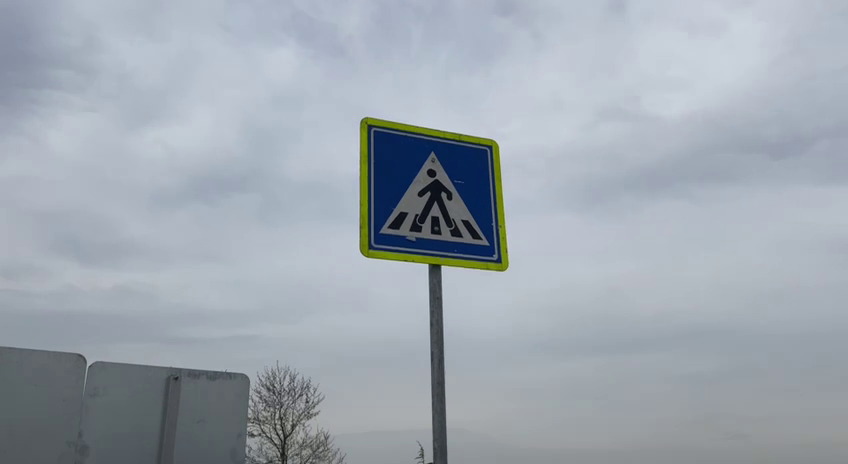pedestrianCrossing: (357, 113, 512, 273)
